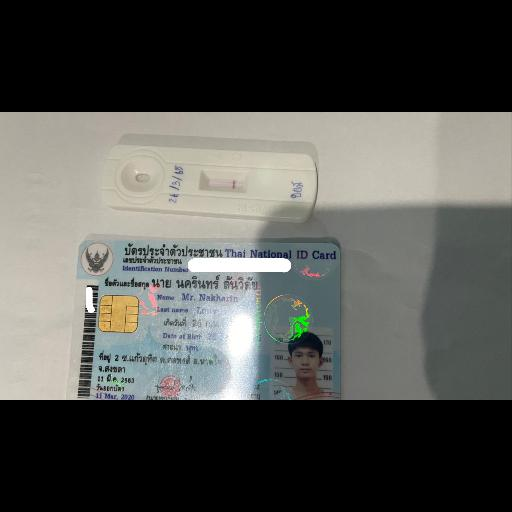Neg: (97, 143, 322, 223)
